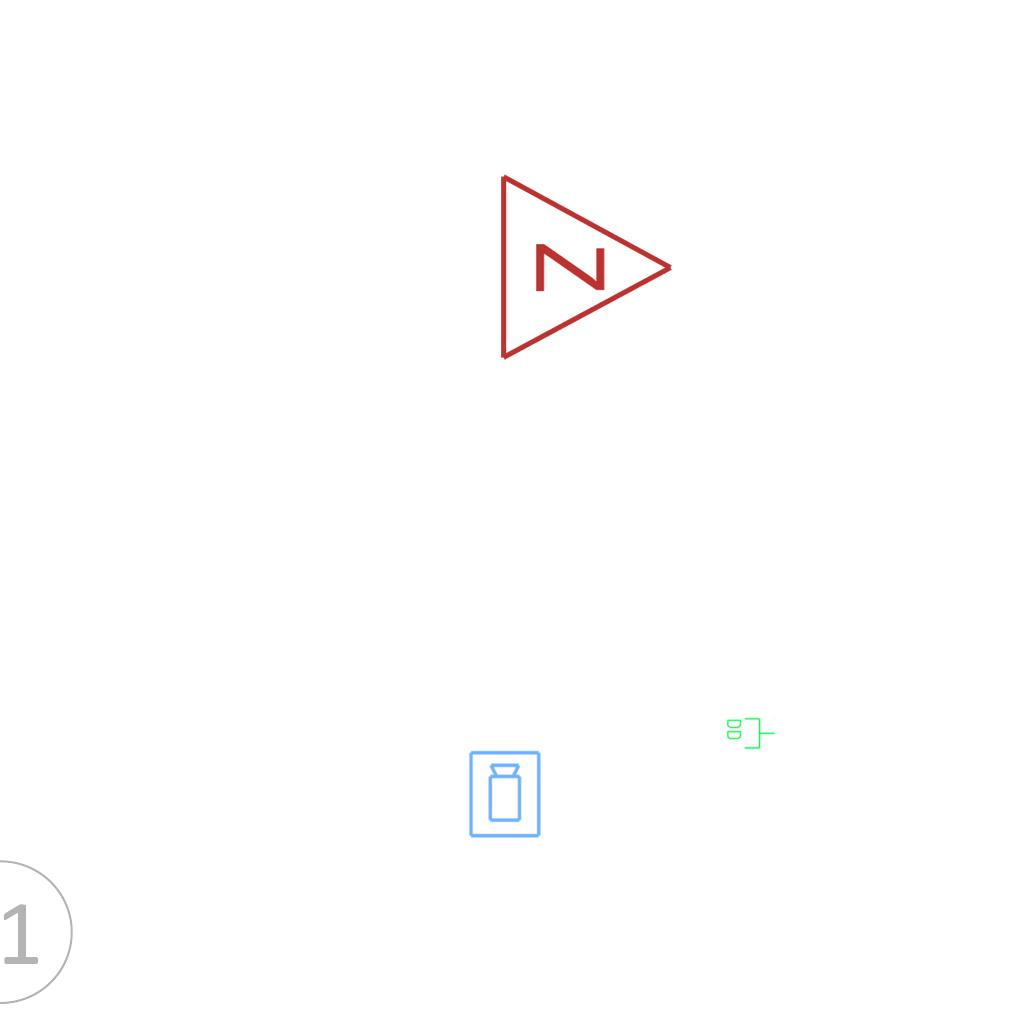Datenanschluss_zweifach: (725, 716, 776, 750)
KFO_Kamera_mit_Festobjektiv: (467, 749, 544, 840)
Zimmersignalleuchte: (486, 167, 686, 363)
